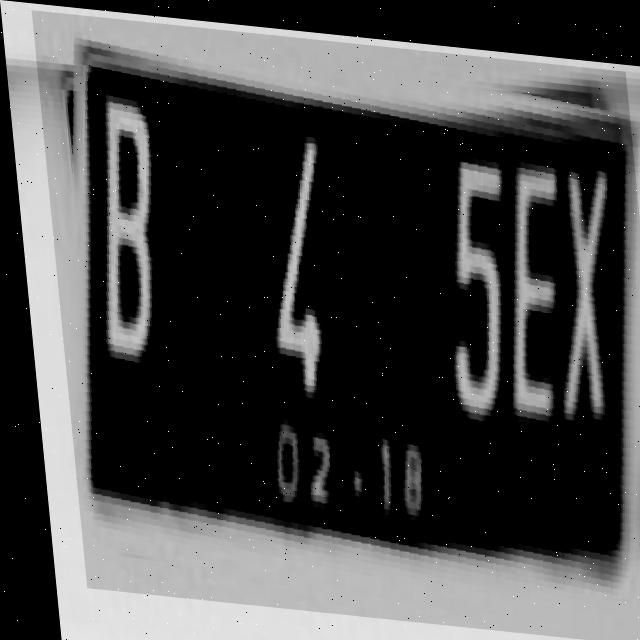LicensePlate: (32, 10, 640, 636)
